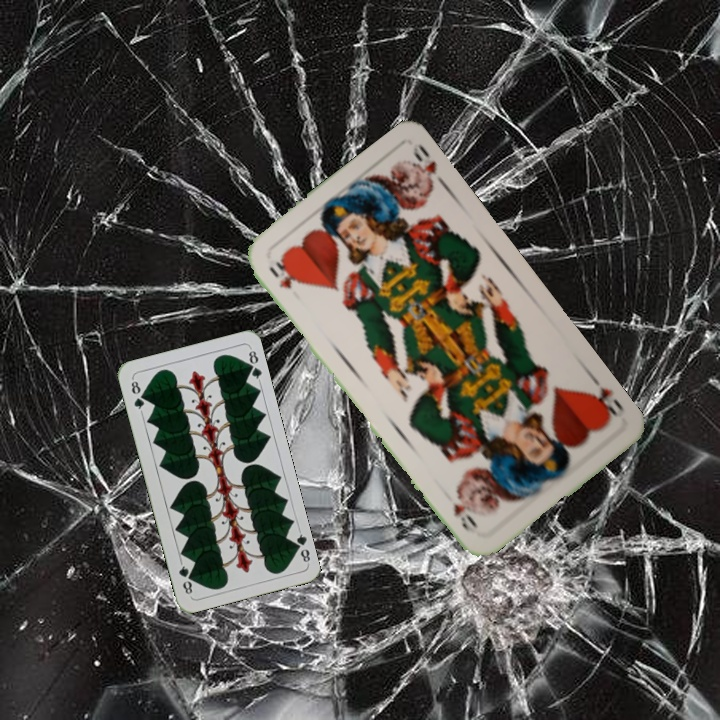G8: (289, 526, 313, 566), (127, 375, 147, 415)
HO: (584, 371, 628, 427), (264, 257, 296, 292)
